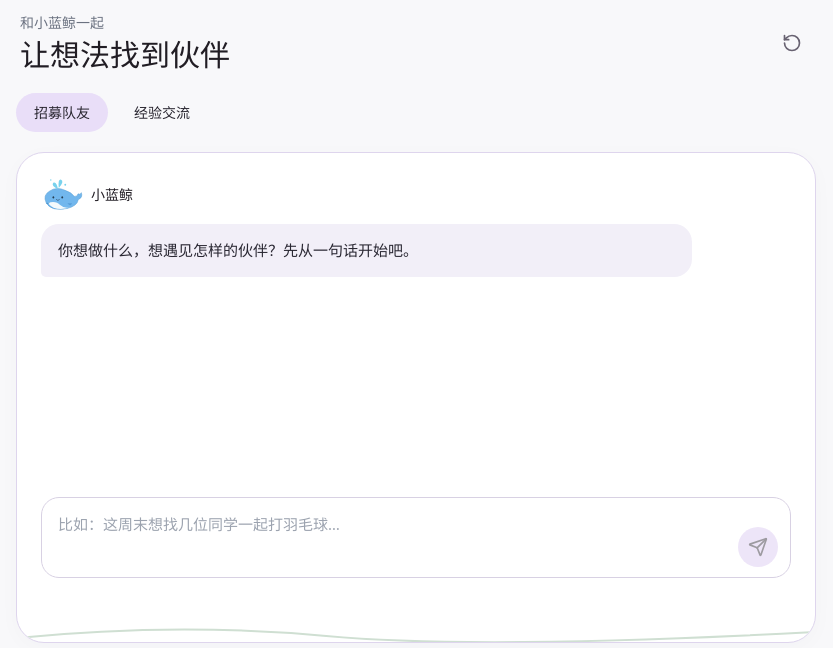
Scenario: conversational publishing › keeps the form hidden until review and synchronizes growth
Check: the field labelled "活动名称" is not shown
Check: the 4th icon is shown, box [17,586,815,642]
Type "周末想打羽毛球" into the text box named "描述你的想法" at point(392, 538), box [58,508,726,567]
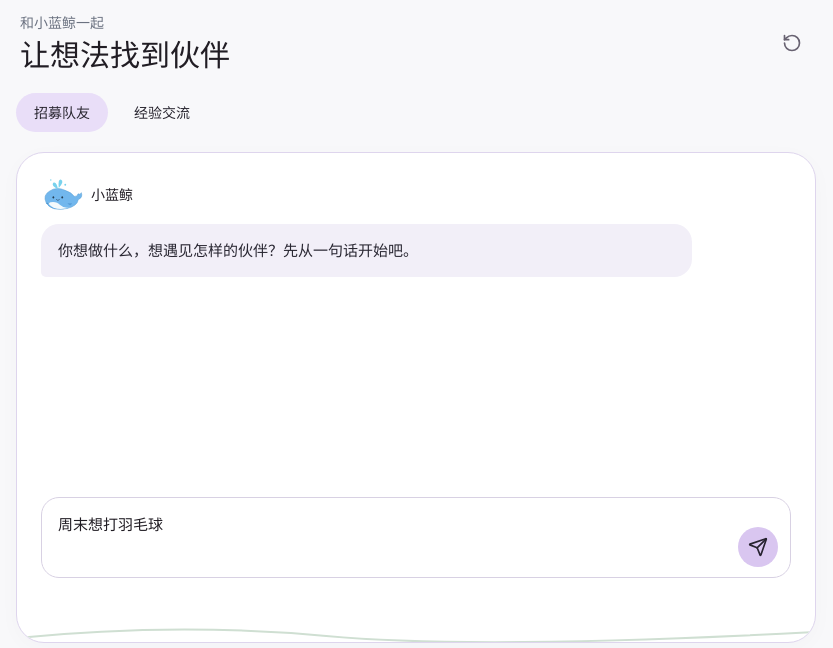
Click the button named "发送" at point(758, 547), box [738,527,778,567]
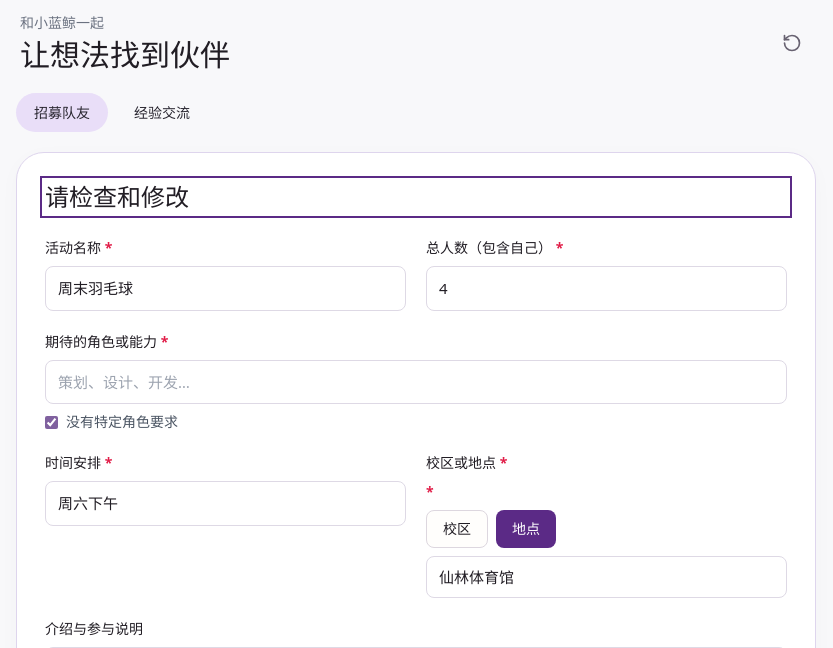
Check: the heading "请检查和修改" is shown, box [45,180,189,213]
Check: the field labelled "活动名称 *" holds "周末羽毛球", box [45,266,406,310]
